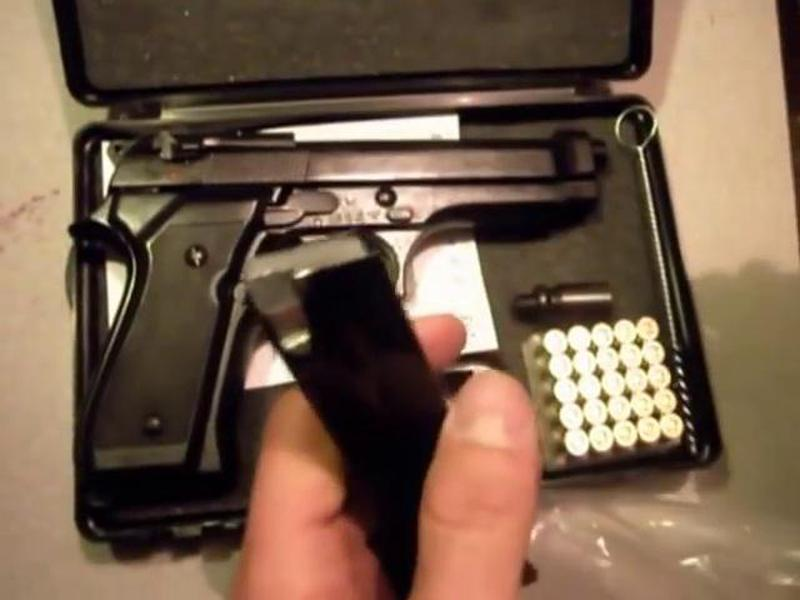Pistola: (60, 112, 644, 500)
